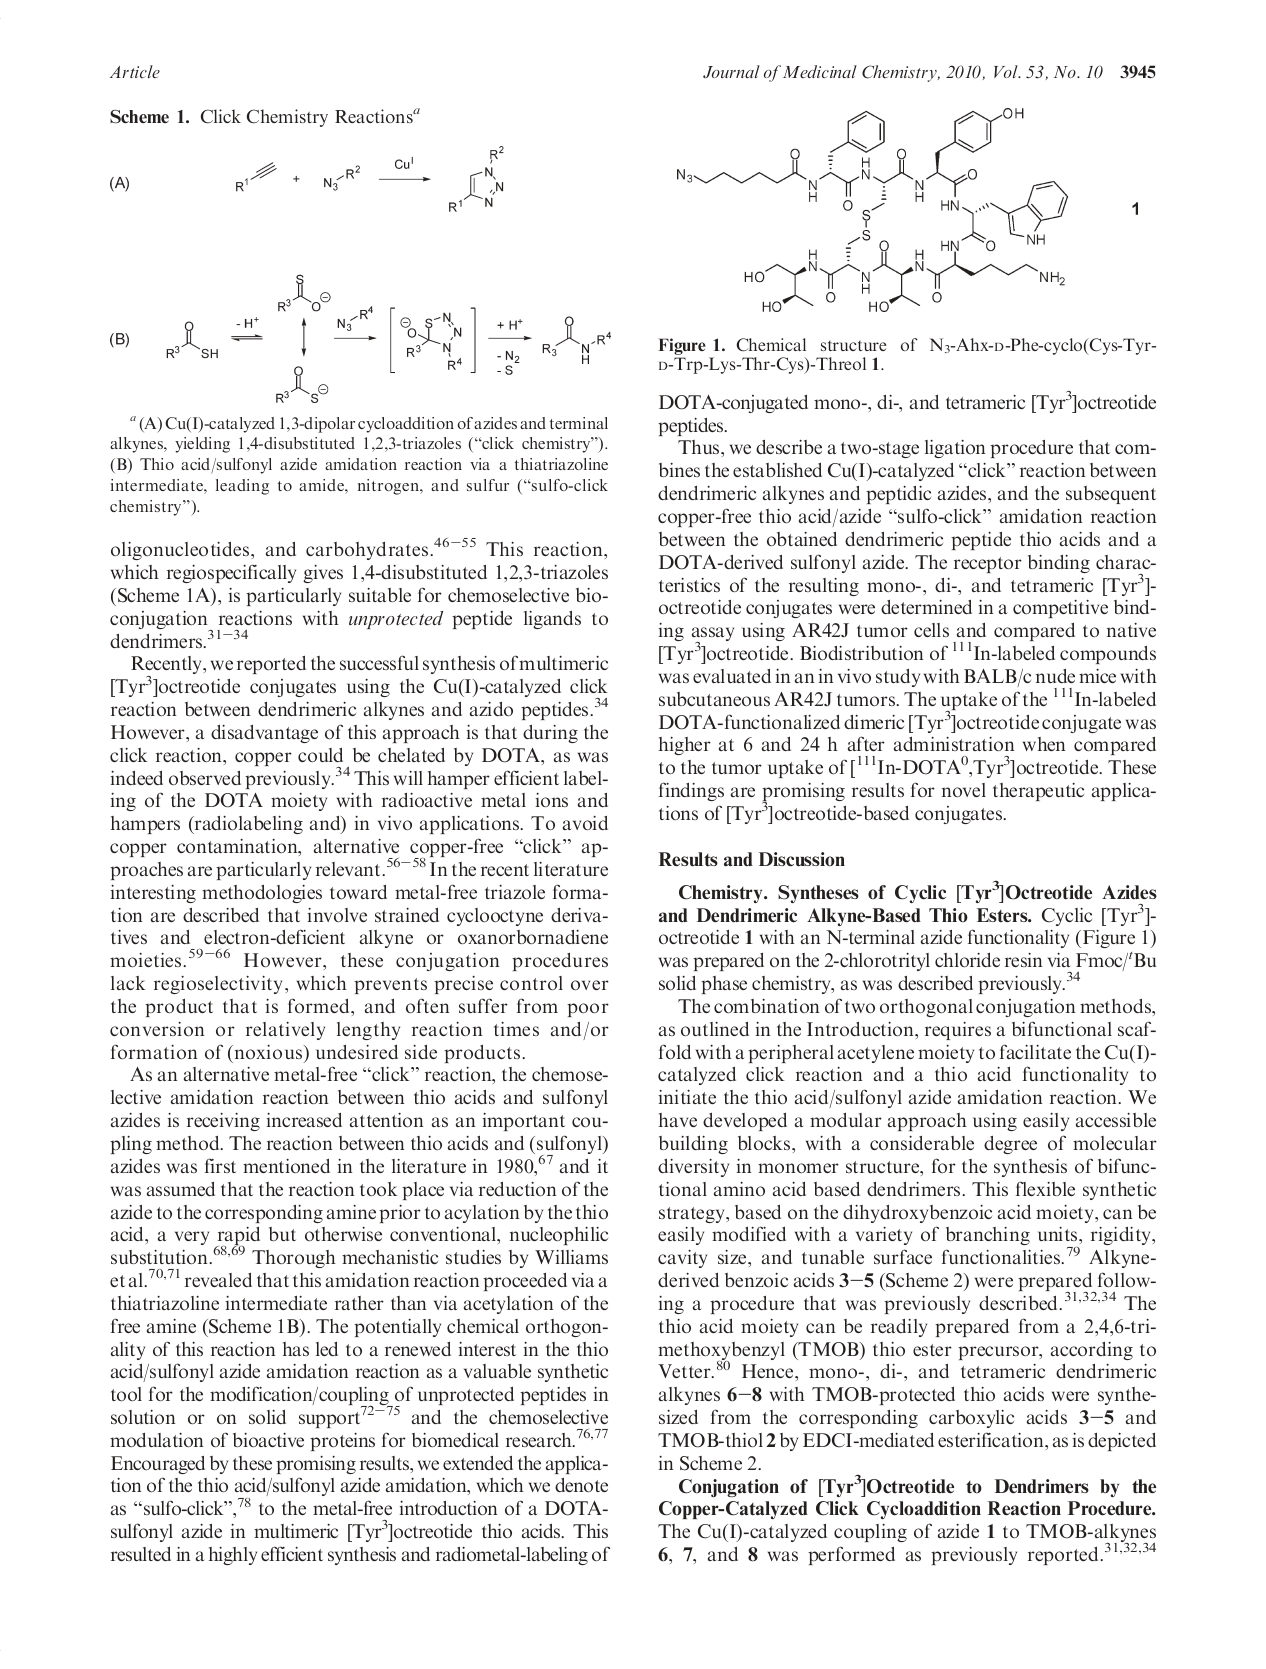exist_molecular: (676, 102, 1088, 318), (448, 140, 513, 218), (541, 311, 614, 368), (406, 309, 468, 371), (162, 321, 222, 366), (273, 363, 330, 407), (231, 154, 281, 195), (277, 270, 320, 315)
